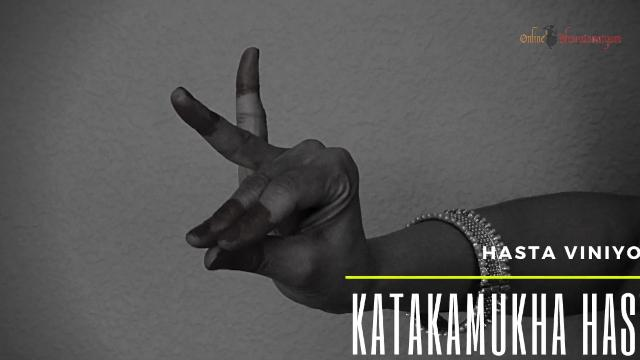katak: (132, 47, 388, 330)
